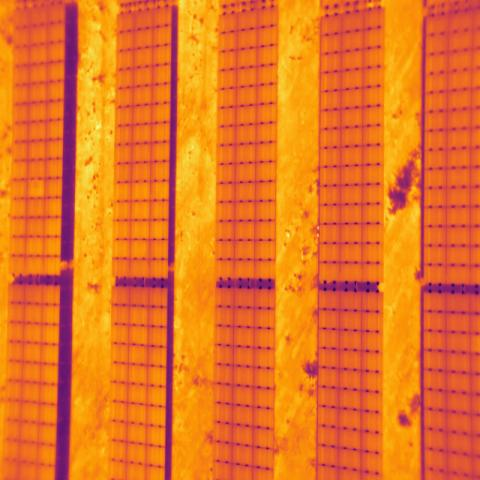fault: (28, 179, 44, 200)
